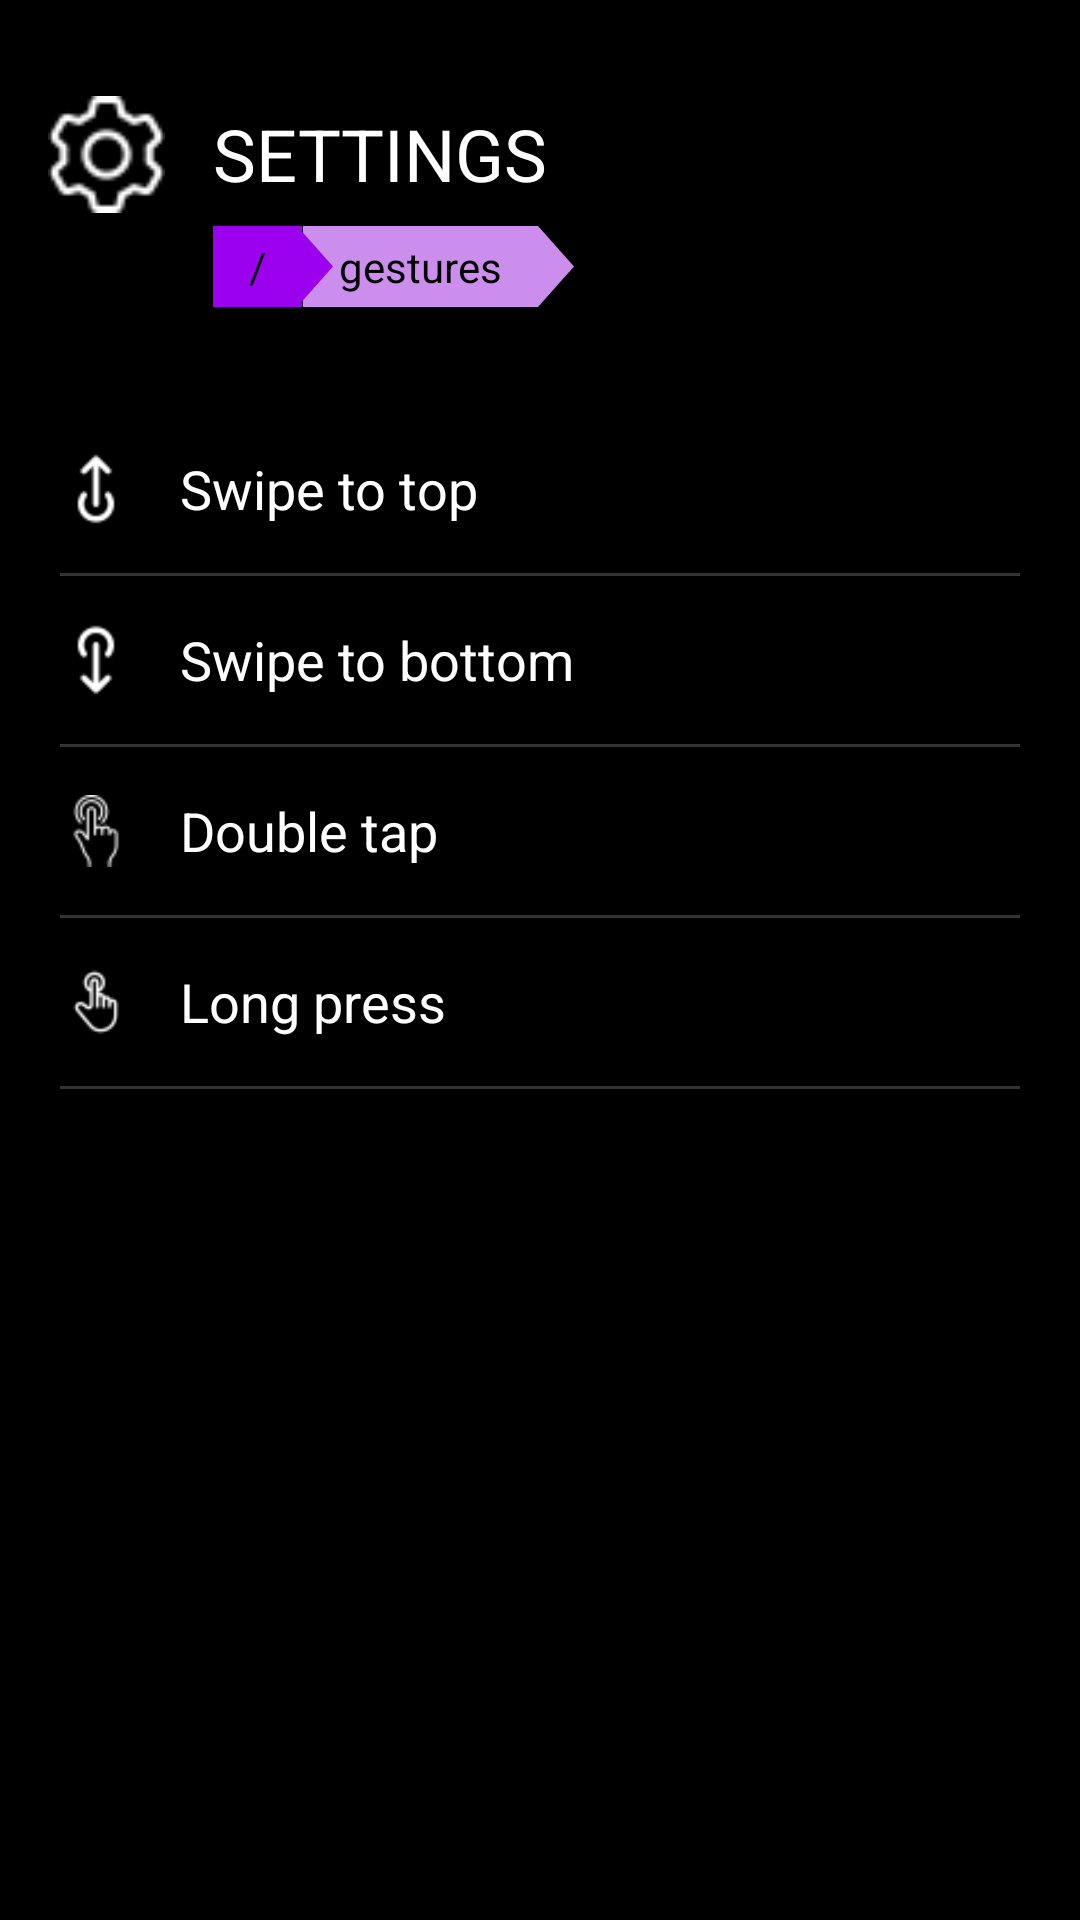

Icons on this 1080px×1920px Android screen, each with its box as bbox=(x1, y1, x2, y2):
arrow bottom: bbox=(77, 625, 115, 694)
arrow top: bbox=(77, 455, 115, 524)
cogwheel: bbox=(48, 96, 165, 213)
